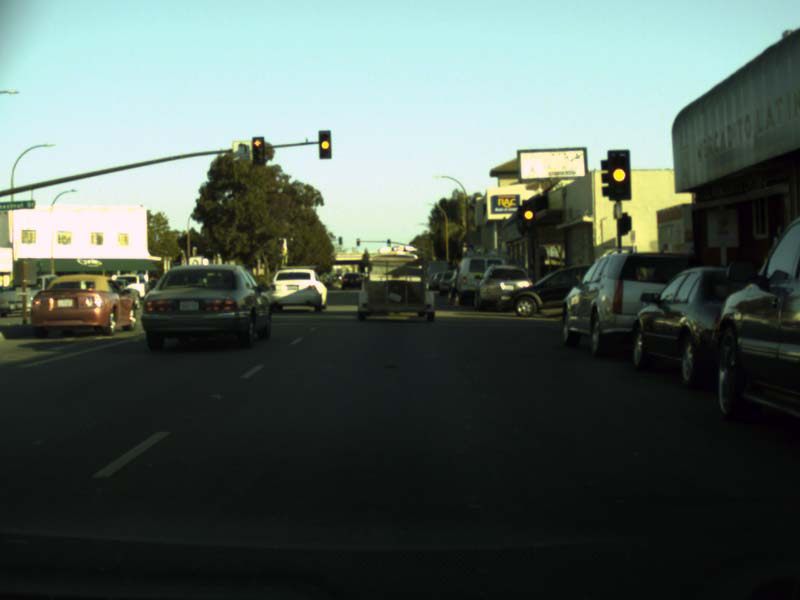Green: (386, 239, 390, 246)
Red: (251, 136, 264, 164), (356, 238, 359, 245)
Yellow: (608, 151, 631, 200), (318, 131, 331, 158), (523, 203, 536, 228)
